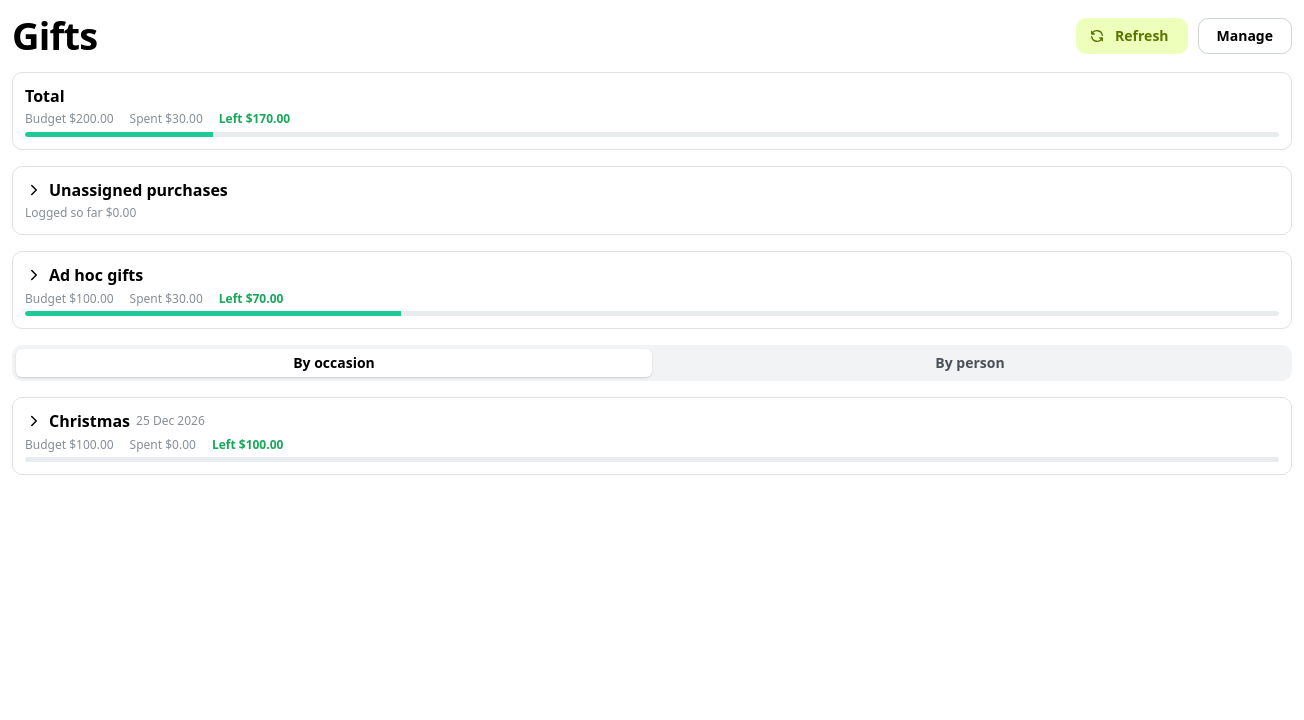
GiftsScreen ad hoc discretionary buffer › shows a tagged ad hoc purchase with its recipient badge
Click the button "Ad hoc gifts Budget $100.00 Spent $30.00 Left $70.00".
click(96, 275)  # box left=25, top=264, right=1279, bottom=316
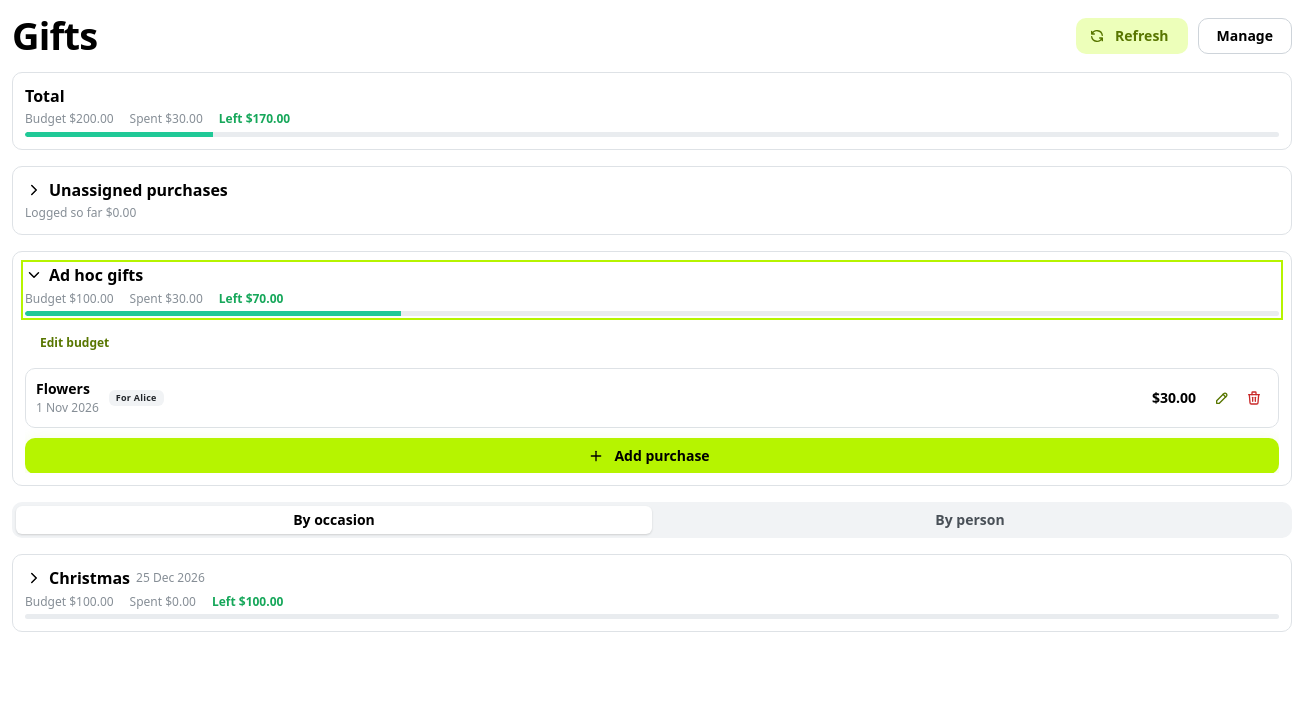
Expected: the text "Flowers" is shown, left=36, top=380, right=99, bottom=400
Expected: the text "For Alice" is shown, left=116, top=391, right=157, bottom=405
